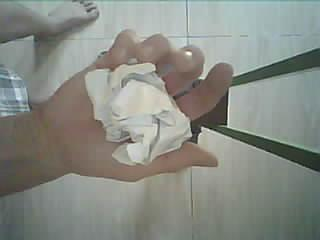paper: (86, 58, 191, 165)
